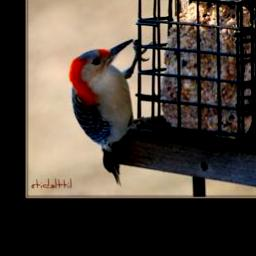Woodpecker: (70, 39, 152, 186)
